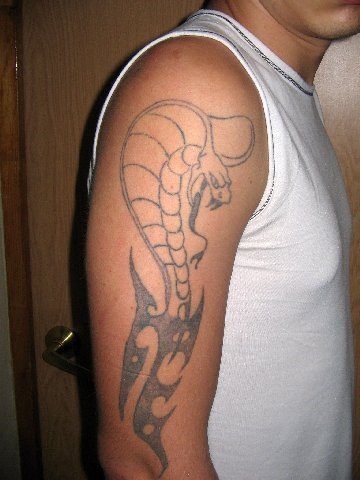tatu7_zmeya: (114, 90, 253, 447)
